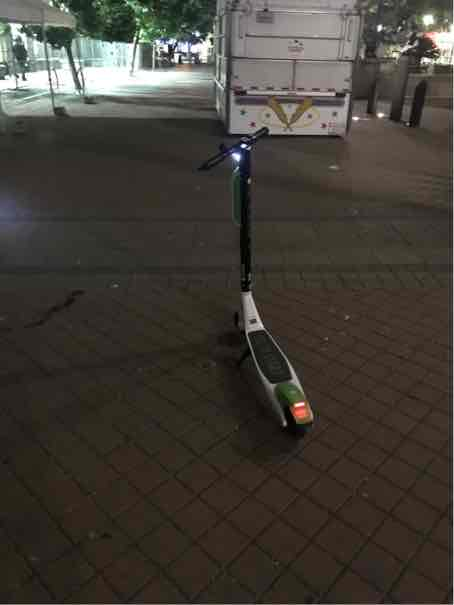scooter: (186, 124, 326, 455)
